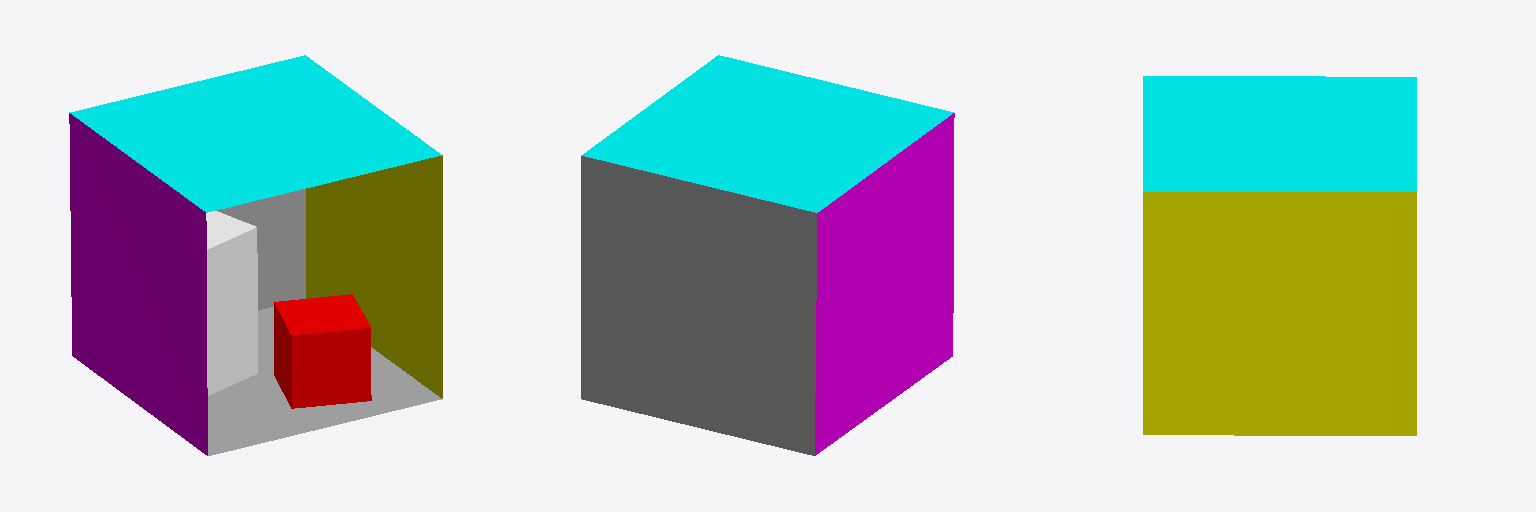
The picture shows the model from 3 angles: view 1: azimuth 30°, elevation 25°; view 2: azimuth 150°, elevation 25°; view 3: azimuth 270°, elevation 25°; orthographic projection.
Parts seen in each view (by area): view 1: left_wall, ceiling, right_wall, floor, short_box, tall_box, back_wall; view 2: back_wall, left_wall, ceiling; view 3: right_wall, ceiling.
Part boxes in pixels (bbox=[...]): left_wall: bbox=[69, 113, 207, 455]; ceiling: bbox=[70, 55, 441, 212]; right_wall: bbox=[306, 155, 442, 398]; floor: bbox=[208, 307, 441, 455]; short_box: bbox=[274, 294, 371, 408]; tall_box: bbox=[206, 211, 257, 395]; back_wall: bbox=[216, 189, 305, 310]; back_wall: bbox=[581, 156, 816, 455]; left_wall: bbox=[815, 113, 954, 455]; ceiling: bbox=[581, 55, 953, 212]; right_wall: bbox=[1143, 192, 1416, 435]; ceiling: bbox=[1143, 76, 1416, 191].
Size of the model in its own units: 5.56 by 5.49 by 5.6.